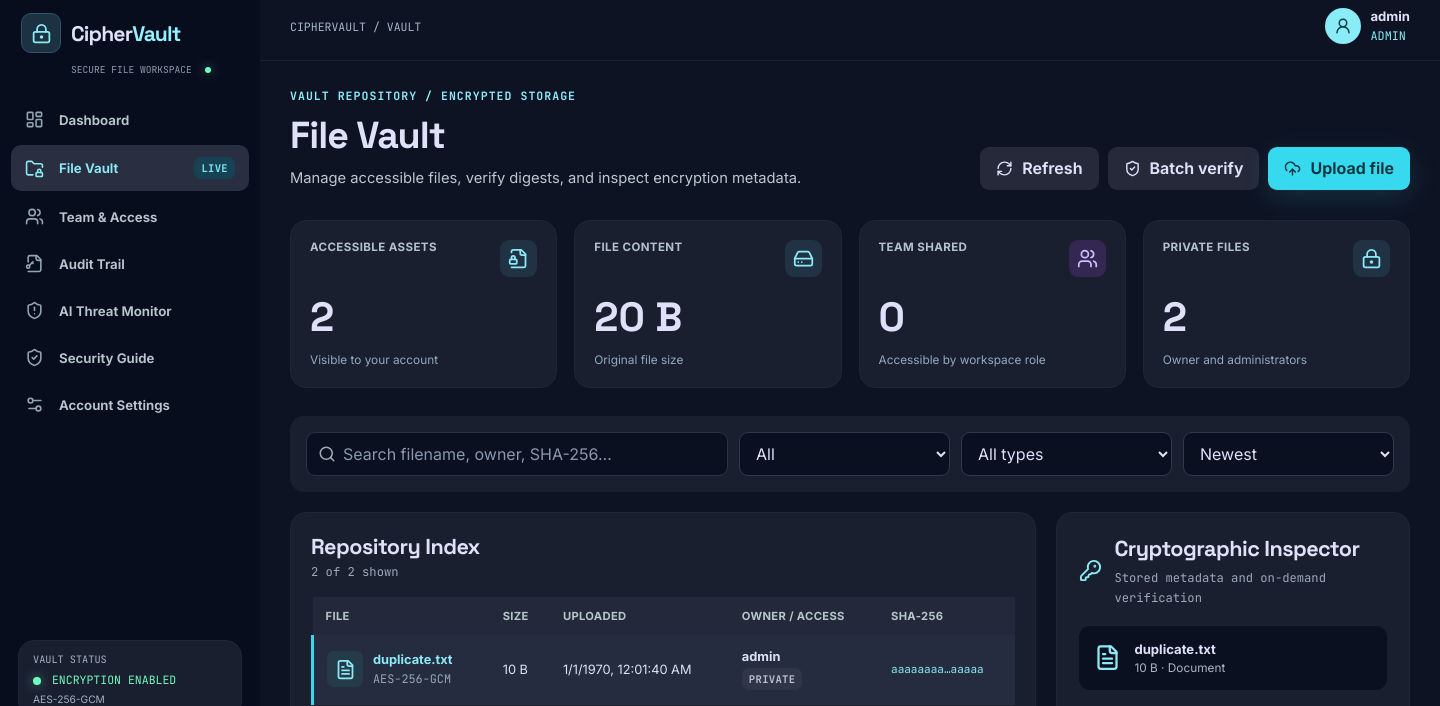
batch verification distinguishes IDs even when filenames are identical
Expected: the heading "Repository Index" is shown, [311,532,480,560]
Click the button "Batch verify": (1183, 168) [1108,146,1259,190]
(page scrolled)
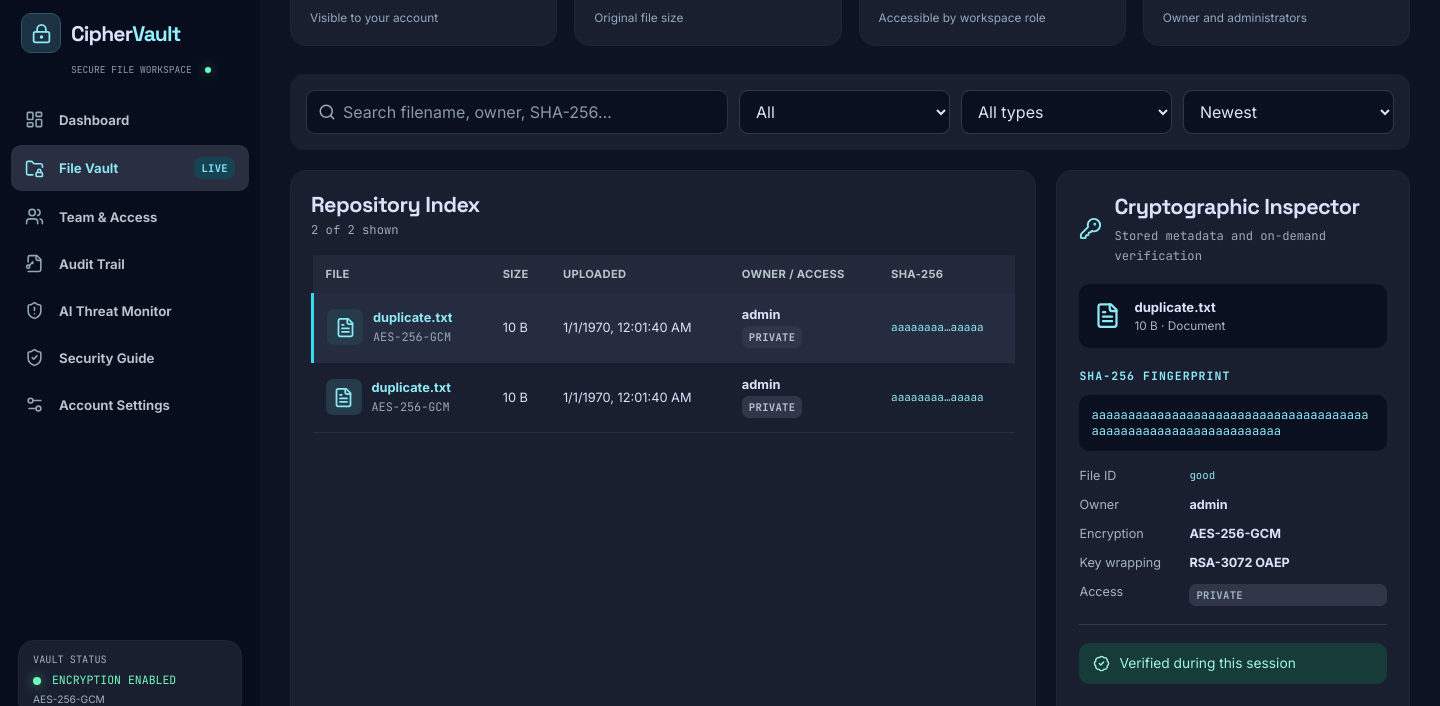
Expected: the text "Verified during this session" is shown, [1079,642,1387,684]
Click the 3rd row: (664, 397) [312,362,1015,432]
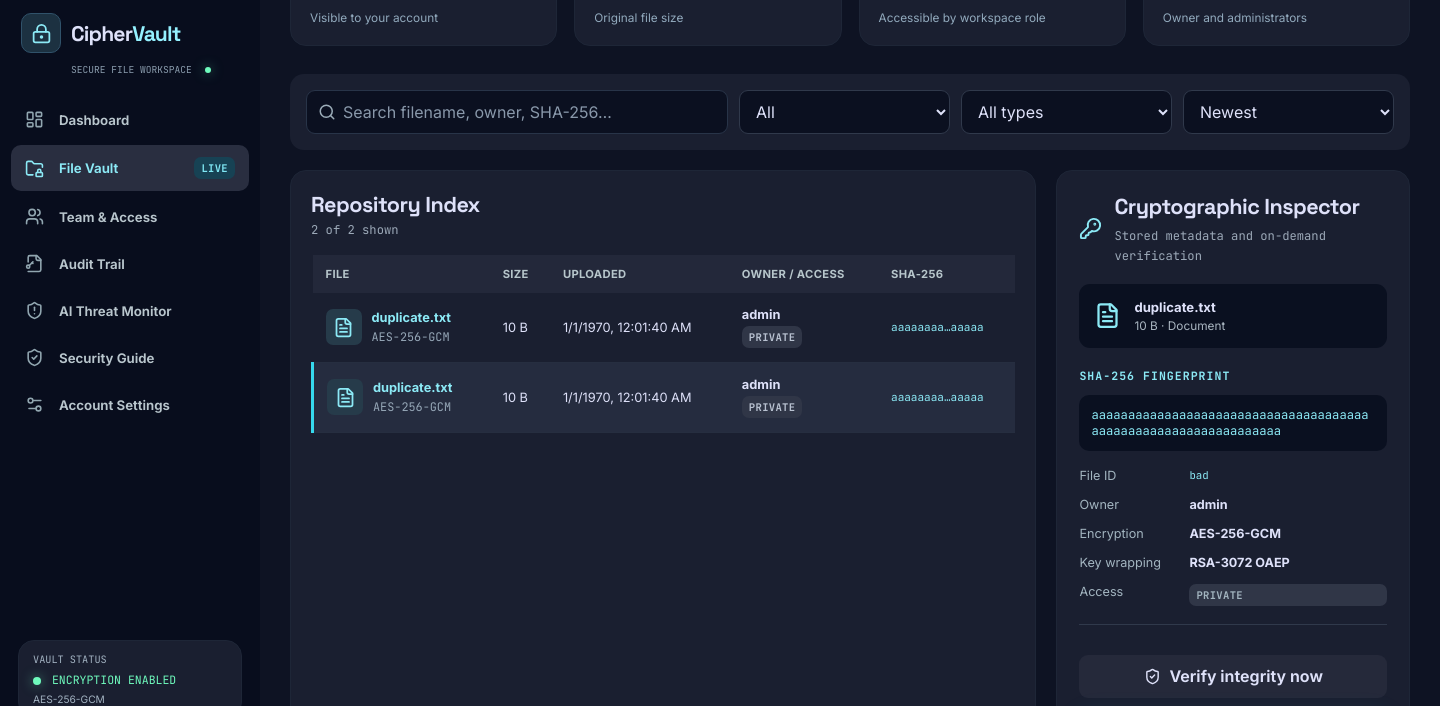
Expected: the text "Verified during this session" is gone
